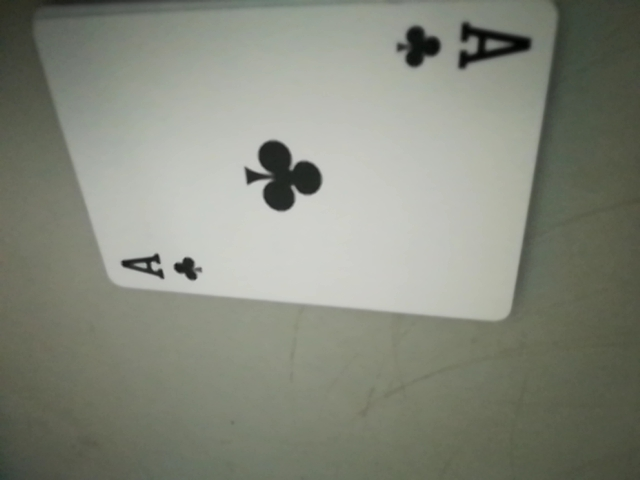mh a: (389, 12, 533, 83), (111, 243, 213, 288)
